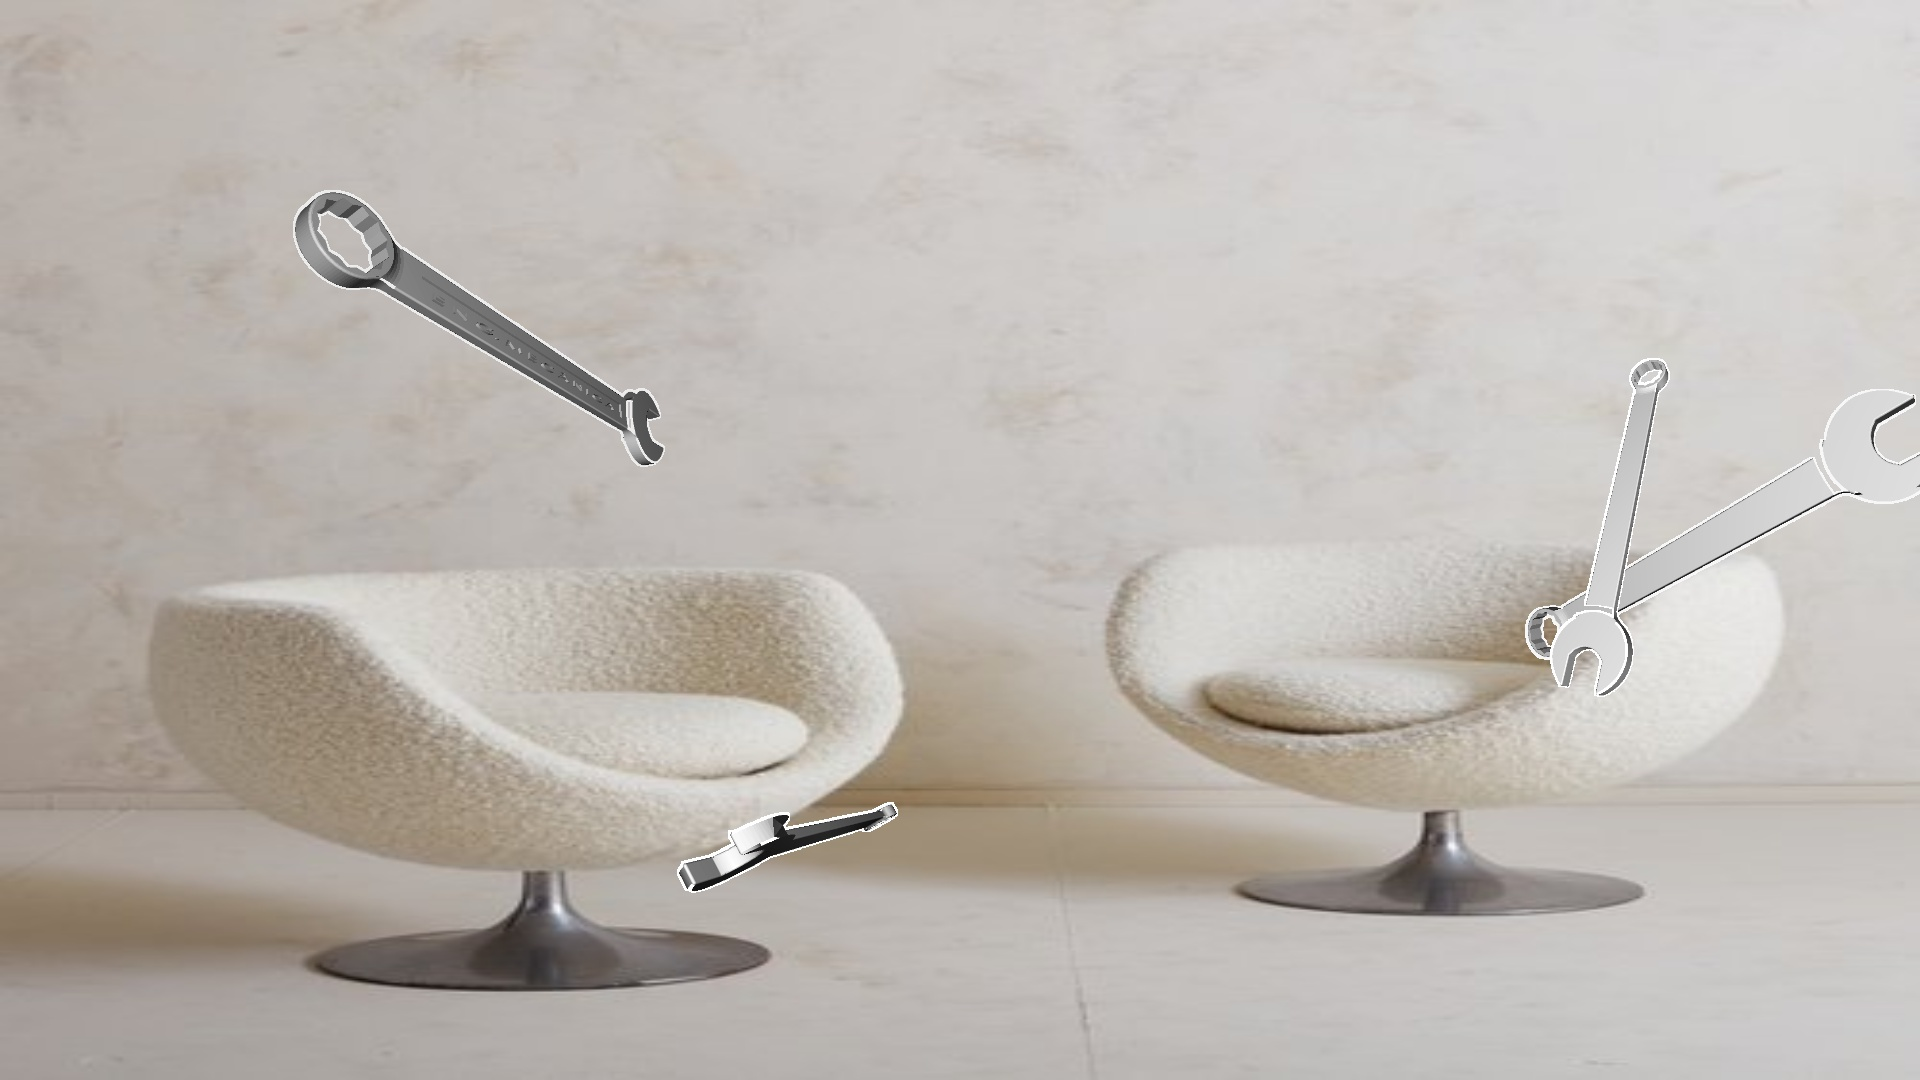Mixed Key: (1524, 389, 1919, 659), (293, 190, 665, 465), (1549, 357, 1669, 696), (676, 802, 897, 891)
